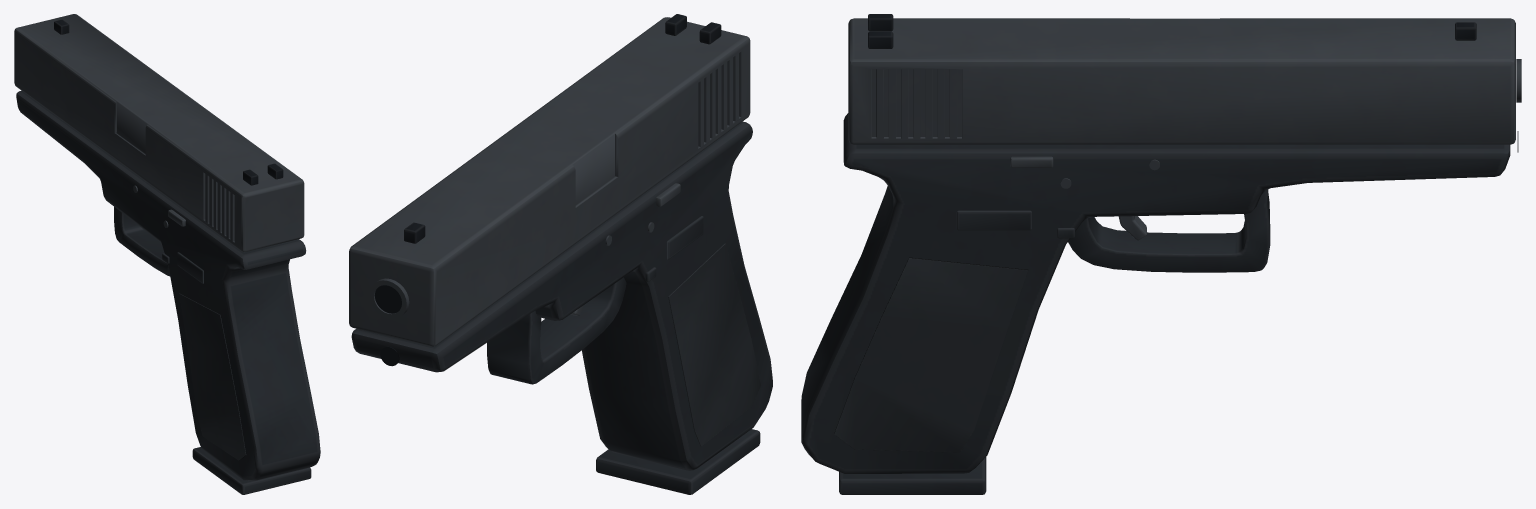
Rendered from pistola9.glb.
3 renders of one model, left to right at view 1: azimuth 30°, elevation 25°; view 2: azimuth 150°, elevation 25°; view 3: azimuth 270°, elevation 25°, orthographic. The views are drawn at different scales.
Parts seen in each view (by area): view 1: Pistola, Carregador; view 2: Pistola, Carregador; view 3: Pistola, Carregador.
Boxes of the visible parts, bbox=[...] form: Pistola: bbox=[14, 14, 320, 481]; Carregador: bbox=[192, 447, 311, 494]; Pistola: bbox=[349, 14, 772, 470]; Carregador: bbox=[596, 429, 760, 494]; Pistola: bbox=[801, 14, 1521, 473]; Carregador: bbox=[839, 457, 986, 494].
Bounding box in the file's own units: 0.032 × 0.13 × 0.19.
Materials: 1 (1 with a texture image).
